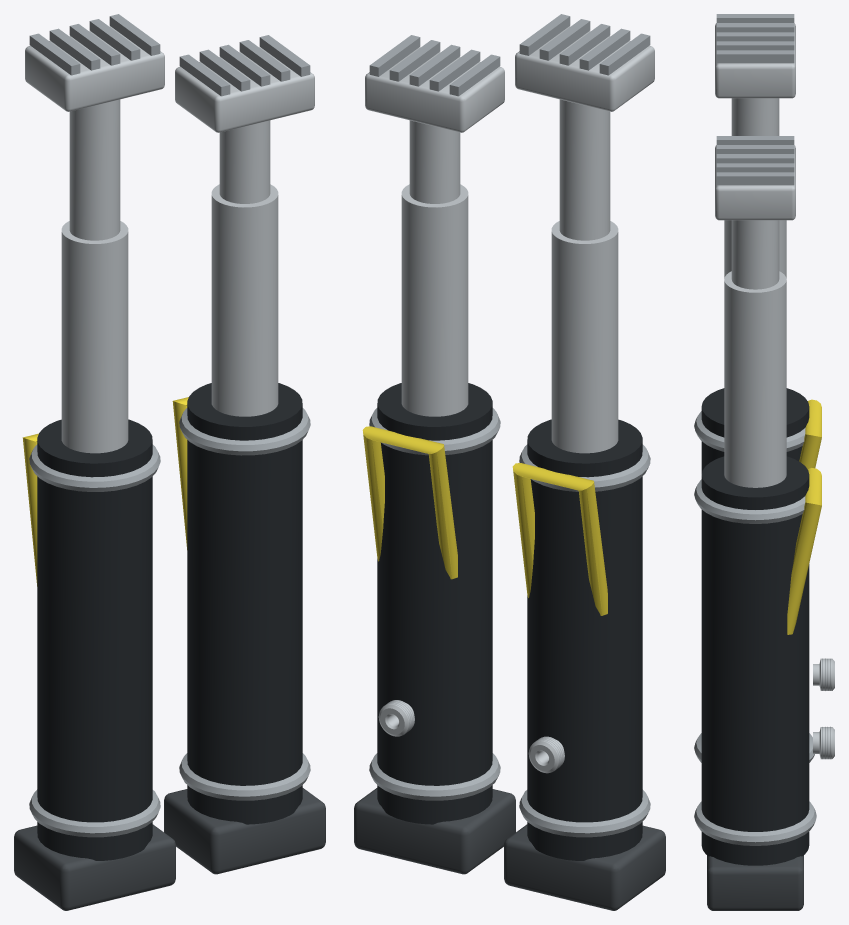
The model's file is hydraulic_ram_pair.glb.
3 views of the same model, side by side, from view 1: azimuth 30°, elevation 25°; view 2: azimuth 150°, elevation 25°; view 3: azimuth 270°, elevation 25° (orthographic). The views are drawn at different scales.
Parts seen in each view (by area): view 1: hydraulic_ram_pair; view 2: hydraulic_ram_pair; view 3: hydraulic_ram_pair.
Boxes of the visible parts, box(x1,y1,x2,y2) form: hydraulic_ram_pair: box(14, 14, 325, 910); hydraulic_ram_pair: box(354, 14, 665, 910); hydraulic_ram_pair: box(694, 14, 834, 910).
Bounding box in the file's own units: 0.2364 × 0.7172 × 0.1166.
